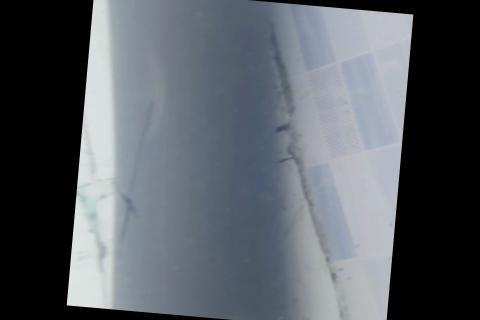keretakan: (114, 97, 157, 244)
